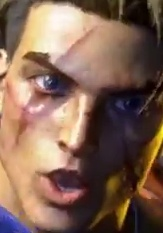kevin: (0, 9, 162, 224)
